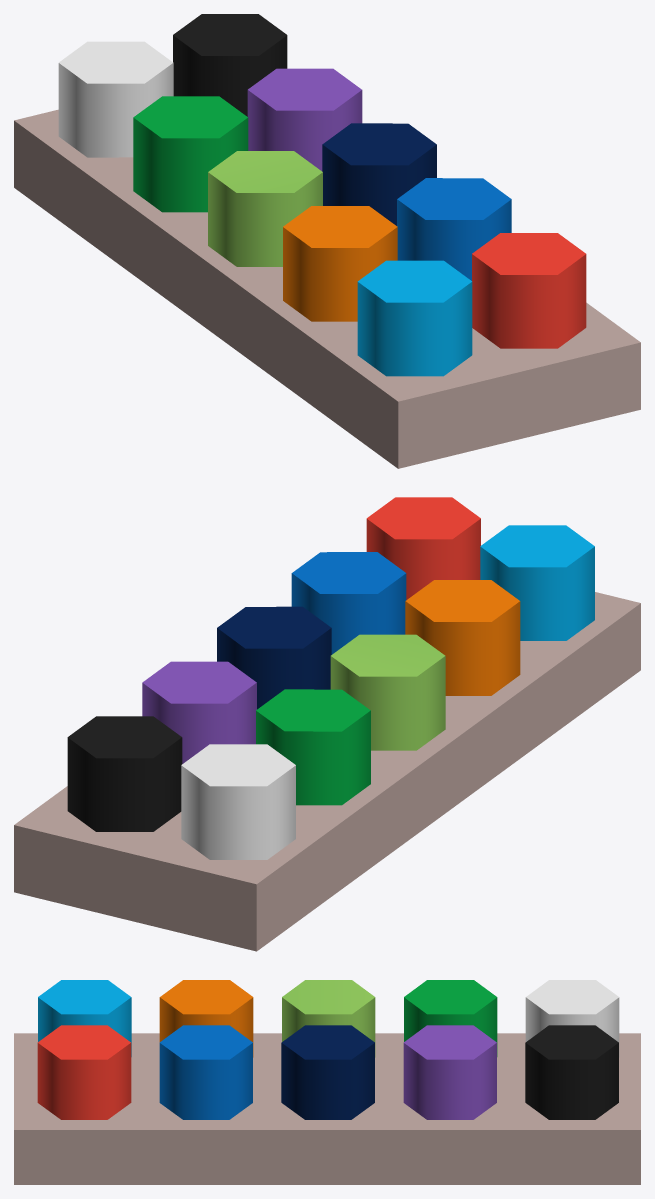
The model's file is shop_036.glb.
3 renders of one model, top to bottom at view 1: azimuth 30°, elevation 25°; view 2: azimuth 150°, elevation 25°; view 3: azimuth 270°, elevation 25°, orthographic. The views are drawn at different scales.
Visible parts, largest first — view 1: shop_036; view 2: shop_036; view 3: shop_036.
Part boxes in pixels (x1,y1,x2,y2): shop_036: (14,14,640,468); shop_036: (14,497,640,951); shop_036: (14,980,640,1184).
Bounding box in the file's own units: 0.1319 × 0.0732 × 0.3615.
Materials: 1 (1 with a texture image).
